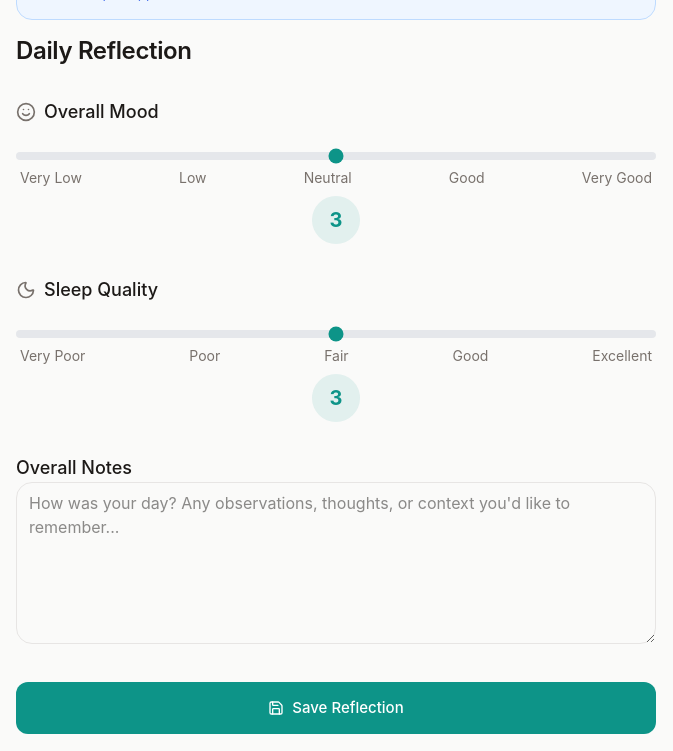
Test: DailyReflectionPage › Saving Functionality › displays saved timestamp after successful save
(page scrolled)
Click the button "Save Reflection": (336,708) [16,682,656,734]
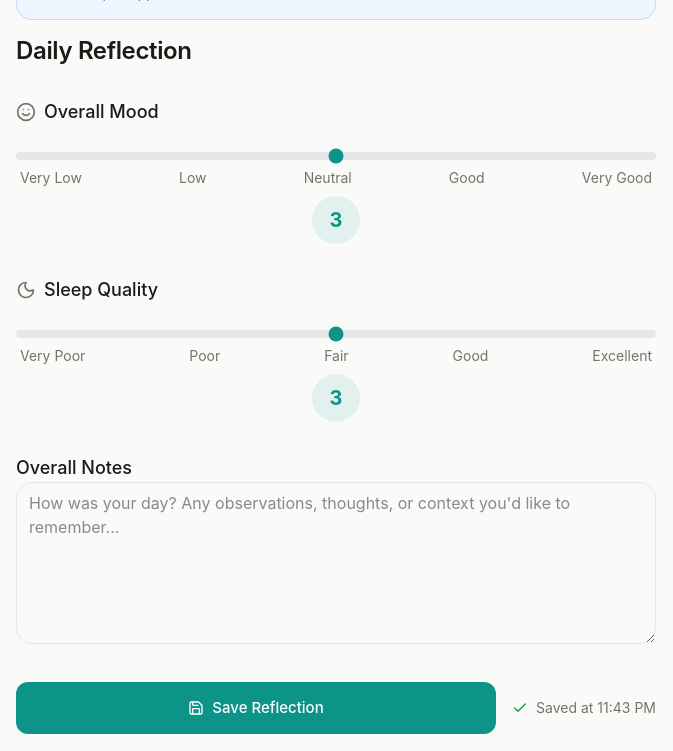
Check: the text "Saved at 11:43 PM" is shown, box [536,698,656,718]
